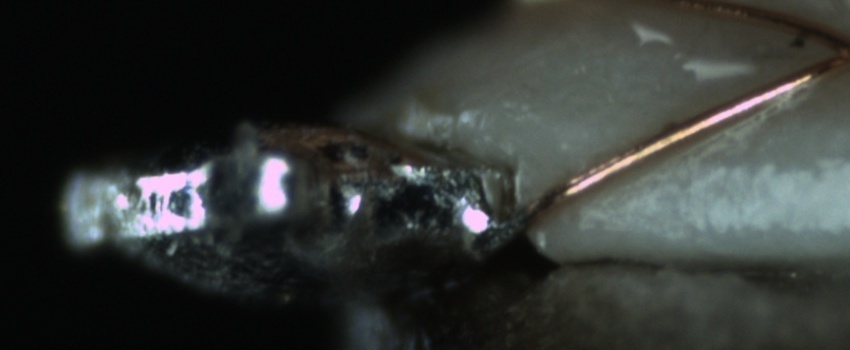CL: (800, 14, 850, 81)
